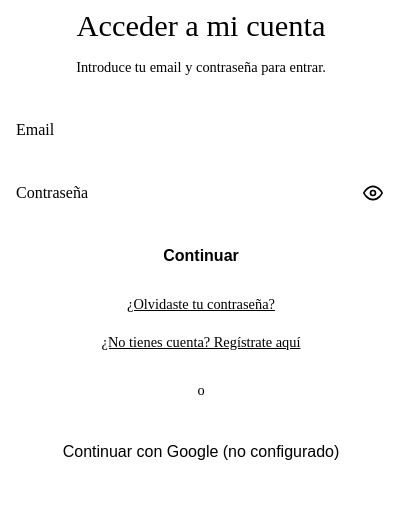
Test case: Login — iniciar sesión › muestra el enlace "¿Olvidaste tu contraseña?" hacia /forgot-password y lo oculta en modo registro
What coordinates should you click on to do the following:
click the button "¿No tienes cuenta? Regístrate aquí"
I would click on:
 (201, 342)
Its box is [96,333,306,352].
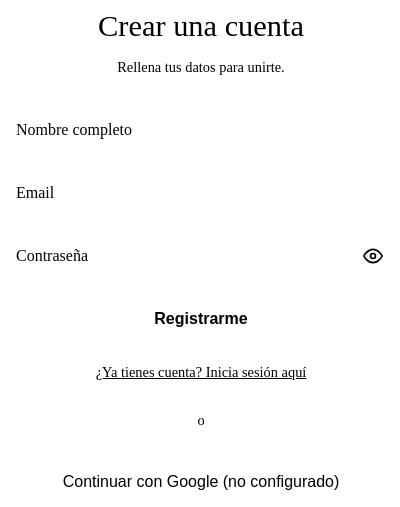
Check: the link "¿Olvidaste tu contraseña?" is gone
